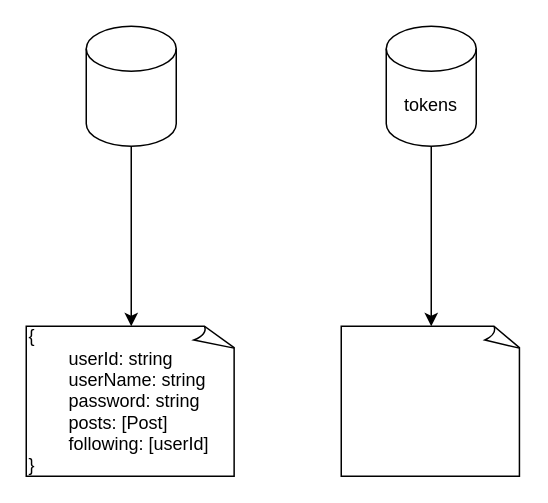
This 548x503 diagram has some shape labels left out. The centre of each missing label's shape, as x and y in pixels:
"users" goes at [130,85].
"{ token: string userId: string }" goes at [430,400].
